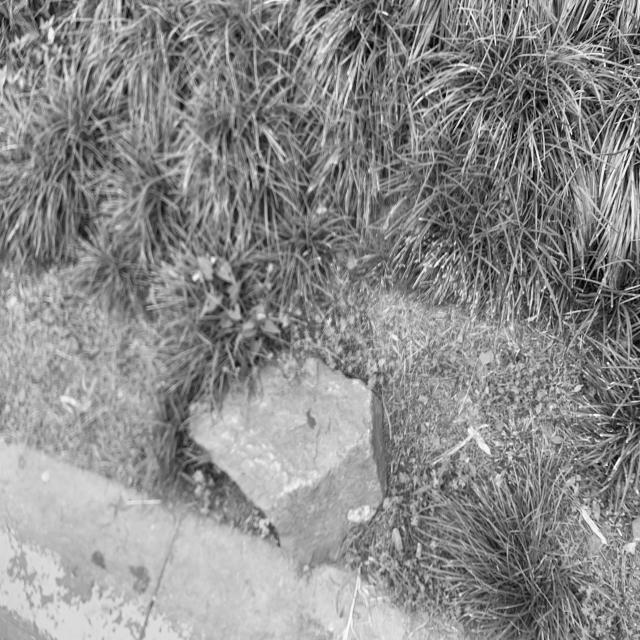Stone: (191, 358, 385, 568)
